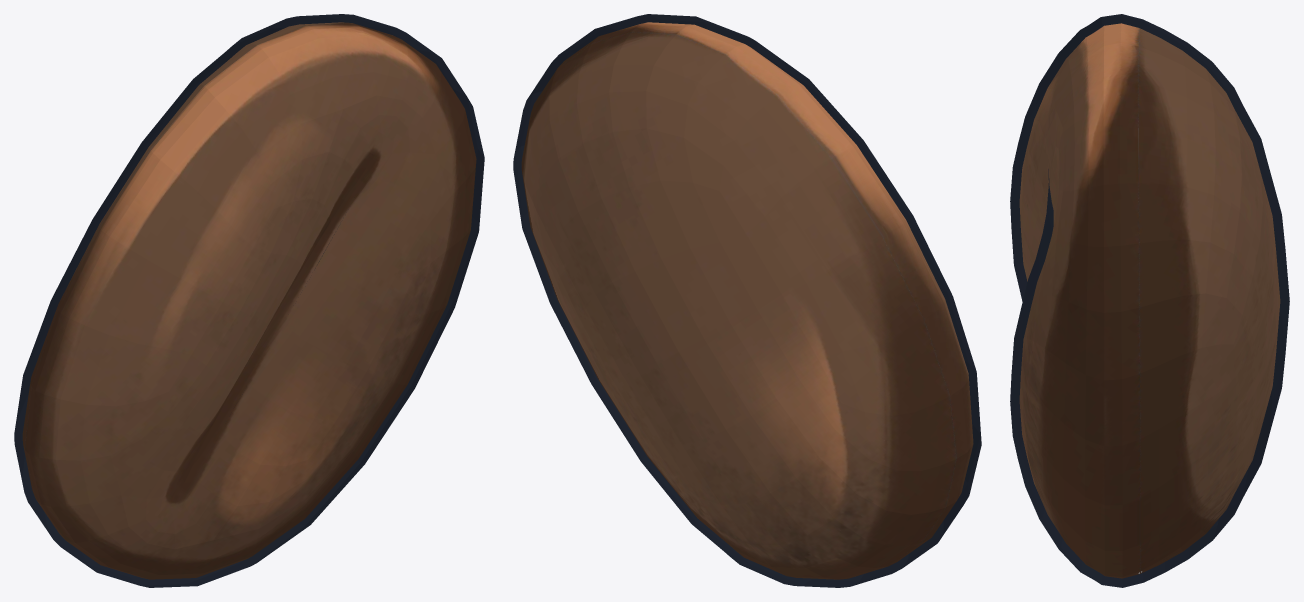
Rendered from coffeegrain.glb.
The picture shows the model from 3 angles, left to right: view 1: azimuth 30°, elevation 25°; view 2: azimuth 150°, elevation 25°; view 3: azimuth 270°, elevation 25°; orthographic projection. The views are drawn at different scales.
Parts seen in each view (by area): view 1: graine.002, graine border; view 2: graine.002, graine border; view 3: graine.002, graine border.
Part boxes in pixels (bbox=[...]): graine.002: bbox=[22, 22, 476, 579]; graine border: bbox=[14, 14, 484, 587]; graine.002: bbox=[521, 22, 973, 579]; graine border: bbox=[513, 14, 981, 587]; graine.002: bbox=[1019, 23, 1280, 578]; graine border: bbox=[1010, 14, 1289, 587].
Bounding box in the file's own units: 0.1949 × 0.2175 × 0.0916.
2 materials, 1 textured.
